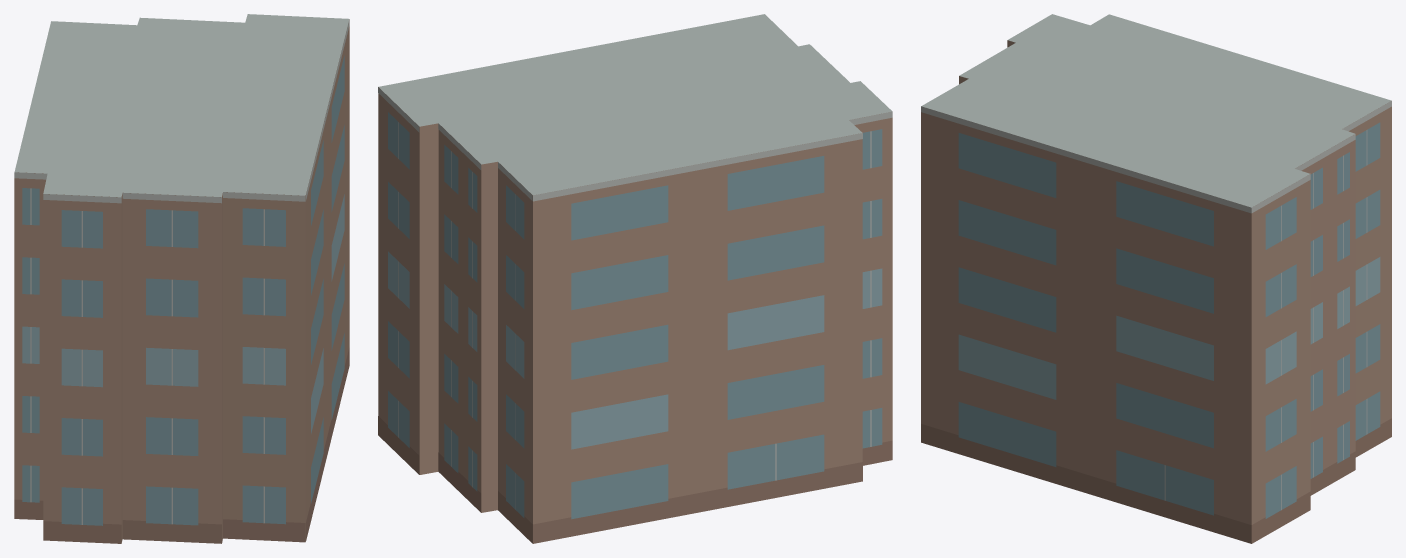
The model's file is survey-upis-32954866.glb.
The picture shows the model from 3 angles, left to right: view 1: azimuth 30°, elevation 25°; view 2: azimuth 150°, elevation 25°; view 3: azimuth 270°, elevation 25°; orthographic projection. The views are drawn at different scales.
Parts seen in each view (by area): view 1: survey-upis-32954866.tmp; view 2: survey-upis-32954866.tmp; view 3: survey-upis-32954866.tmp.
Part boxes in pixels (x1,y1,x2,y2): survey-upis-32954866.tmp: (14,14,349,543); survey-upis-32954866.tmp: (378,14,892,543); survey-upis-32954866.tmp: (921,14,1391,543).
Size of the model in its own units: 17.3 by 14 by 17.77.
